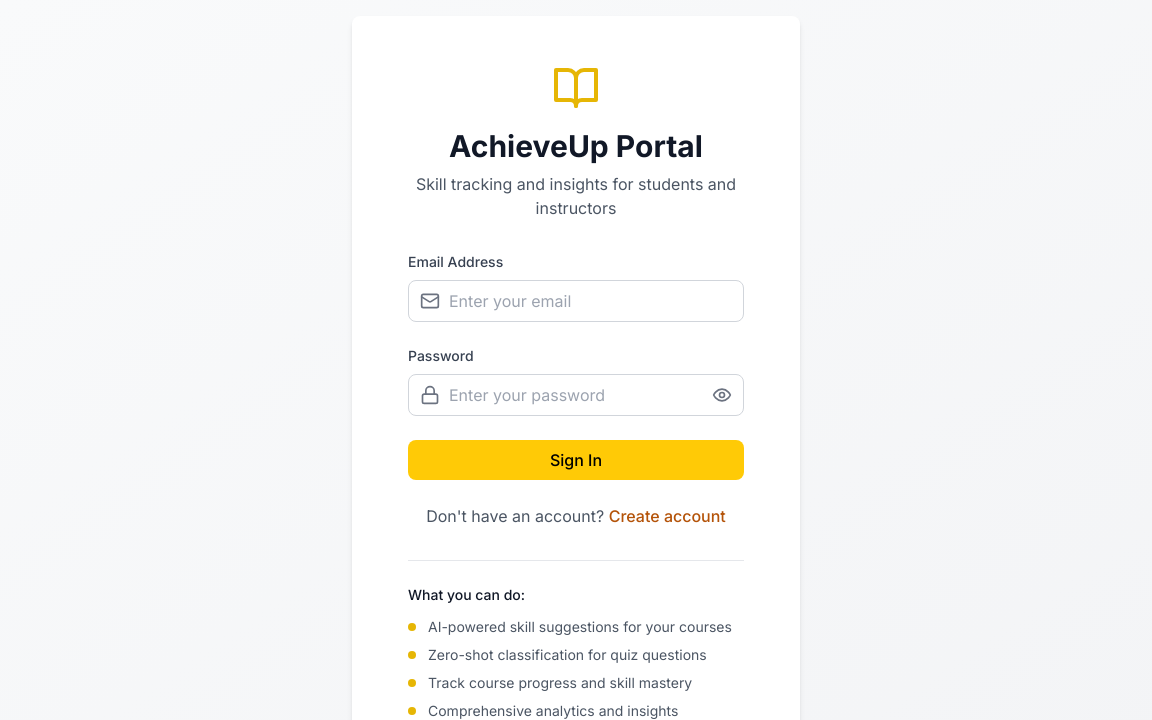
Login Component › clears form validation errors on input change
// Trigger validation error
Click the button "Sign In": (576, 460) [408,440,744,480]
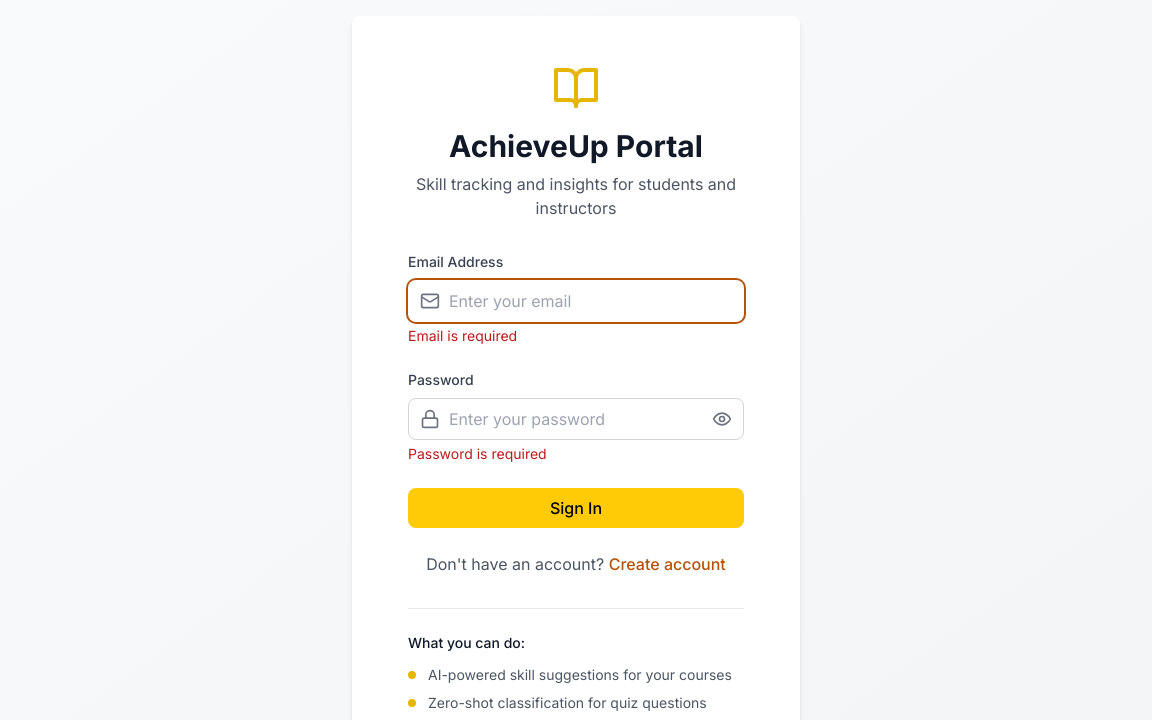
Expected: the text "Email is required" is shown, [408,327,517,344]
// Type in email field
In the field labelled "Email Address": (576, 301) [408,280,744,322], type "test@example.com"
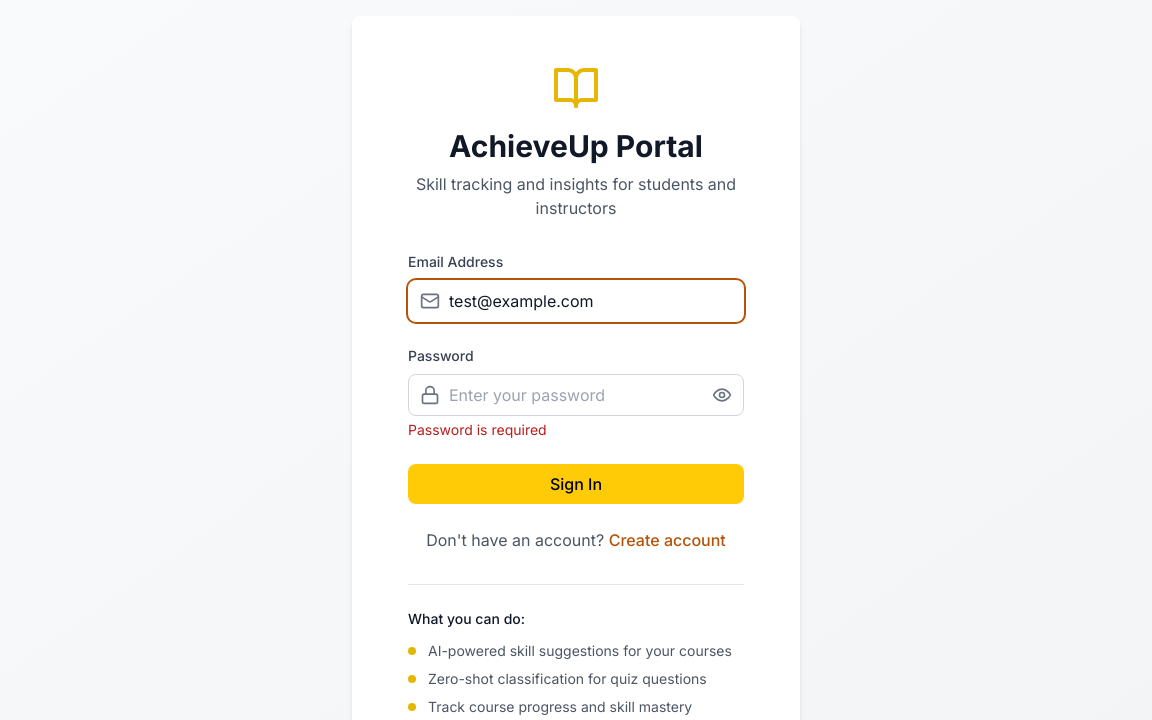
Expected: the text "Email is required" is gone
